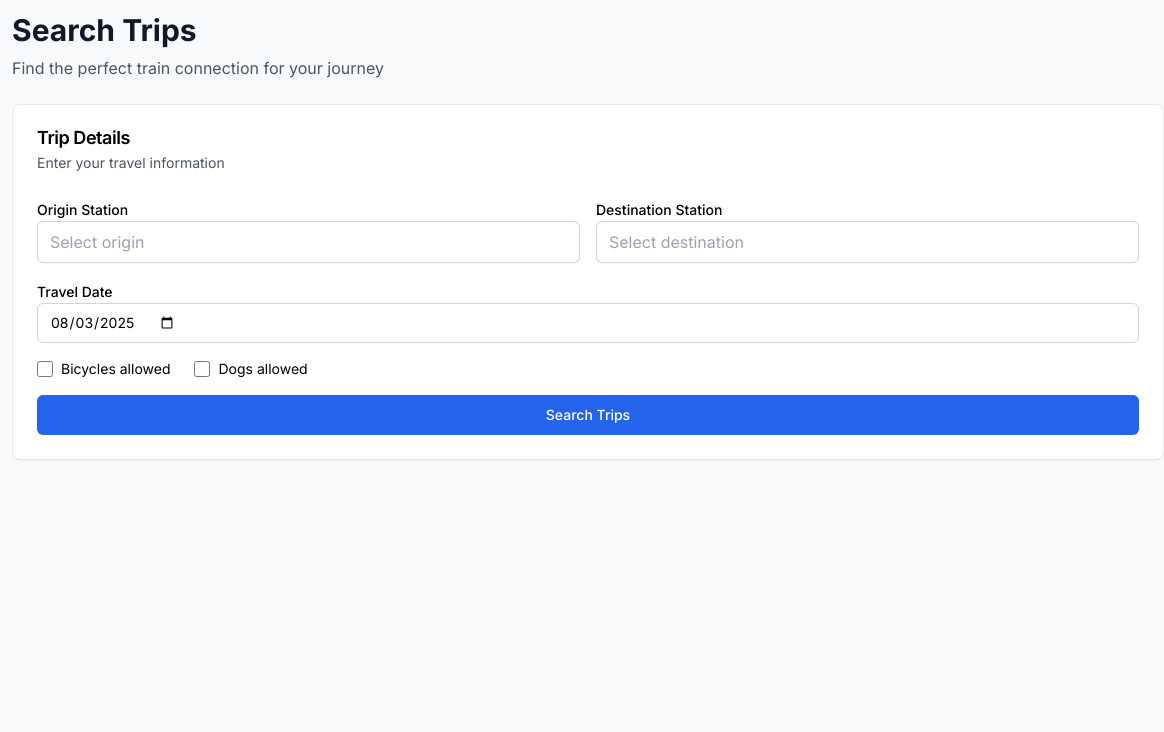
Search Page › should show no results message
Perform search
Click the button "Select origin" at {"x": 97, "y": 242}, box x1=37 y1=221 x2=580 y2=263
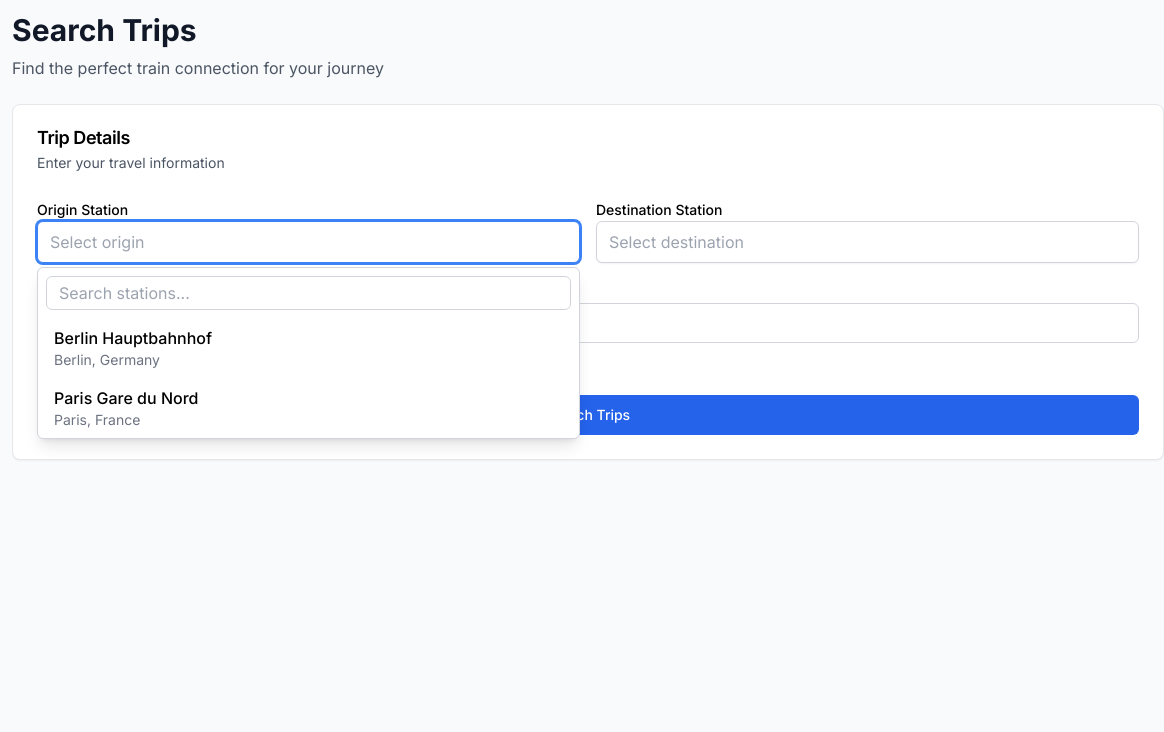
Now the field with placeholder "Search stations..." is shown, box x1=46 y1=276 x2=571 y2=310
Click the text "Berlin Hauptbahnhof" at {"x": 133, "y": 338}, box x1=54 y1=328 x2=212 y2=348
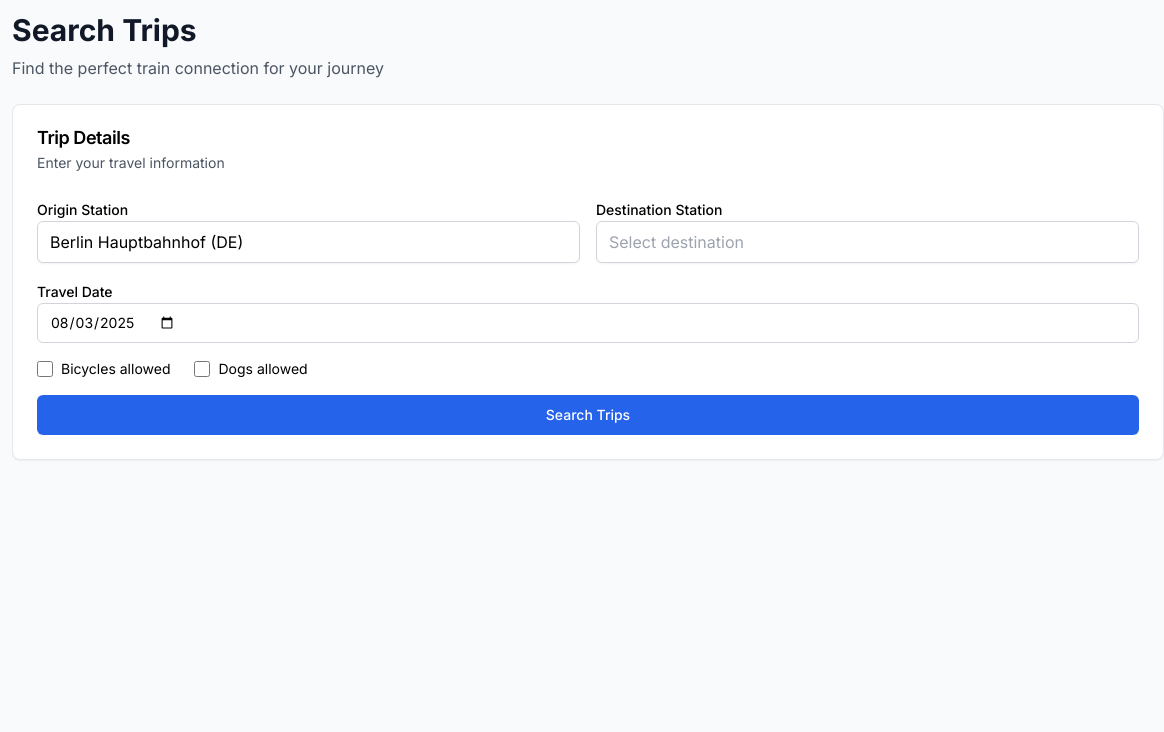
Click the button "Select destination" at {"x": 676, "y": 242}, box x1=596 y1=221 x2=1139 y2=263
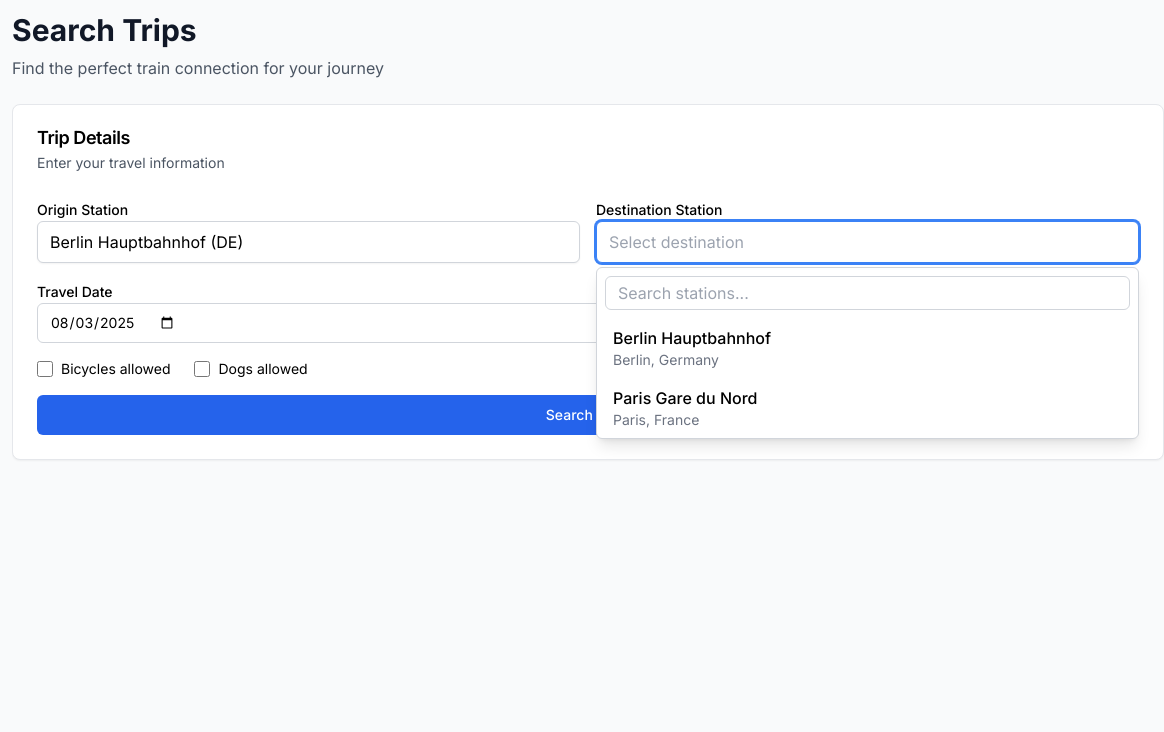
Now the field with placeholder "Search stations..." is shown, box x1=605 y1=276 x2=1130 y2=310
Click the text "Paris Gare du Nord" at {"x": 685, "y": 398}, box x1=613 y1=388 x2=757 y2=408
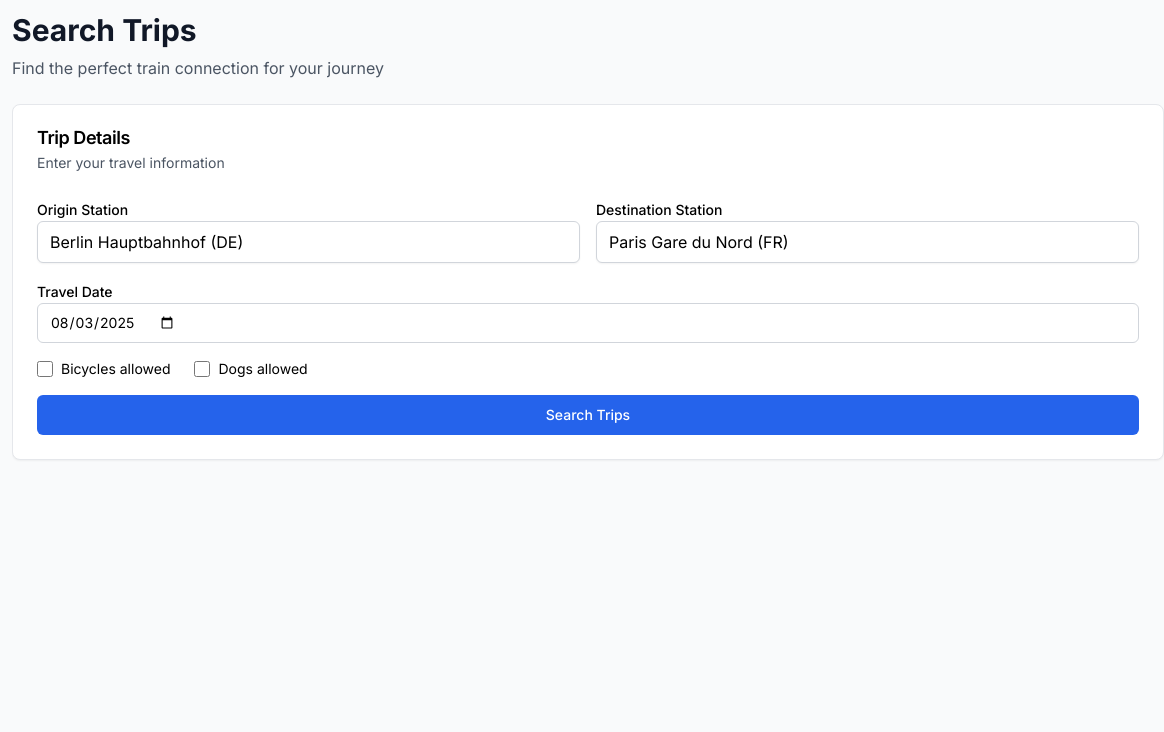
Click the button "Search Trips" at {"x": 588, "y": 415}, box x1=37 y1=395 x2=1139 y2=435
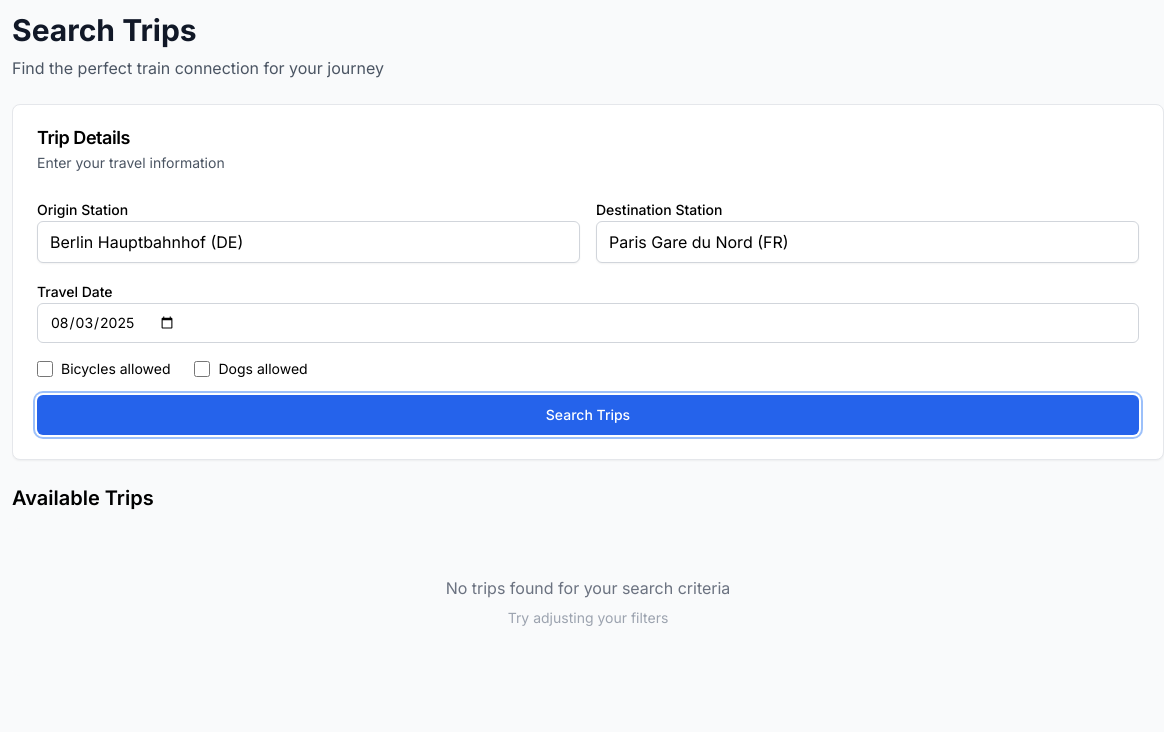
Now the text "No trips found for your search criteria" is shown, box x1=446 y1=578 x2=730 y2=598
